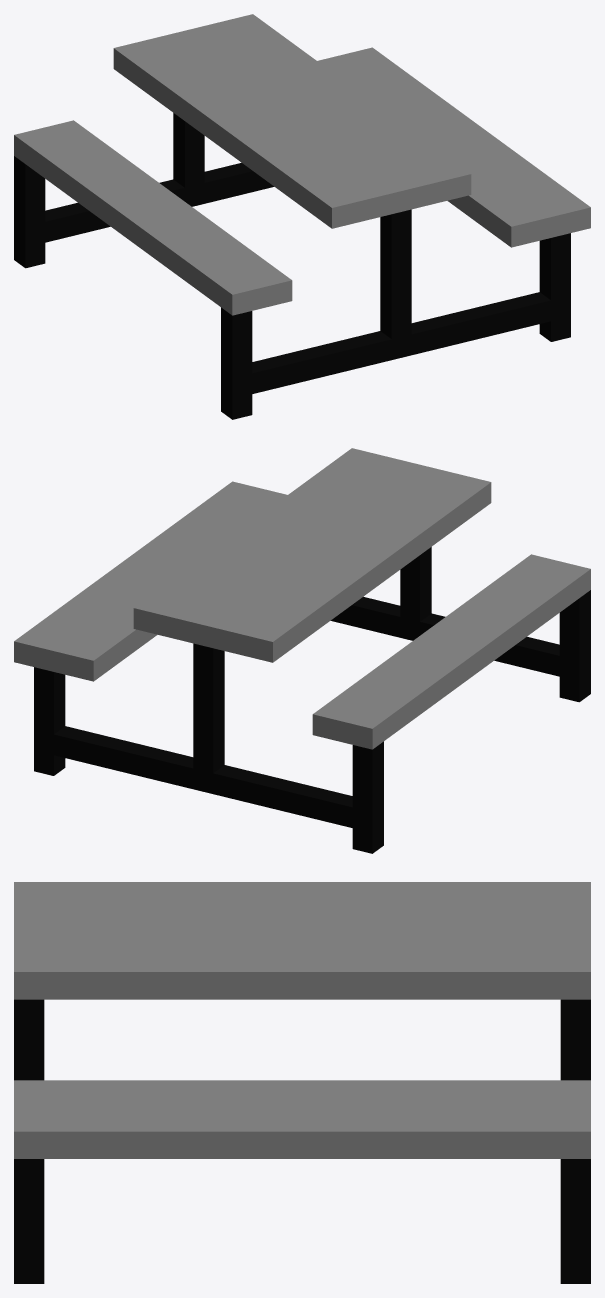
File: benches.obj
3 views of the same model, one above another, from view 1: azimuth 30°, elevation 25°; view 2: azimuth 150°, elevation 25°; view 3: azimuth 270°, elevation 25° (orthographic). The views are drawn at different scales.
Bounding box in the file's own units: 1.8 × 0.9 × 1.9.
Materials: 1 (1 with a texture image).
